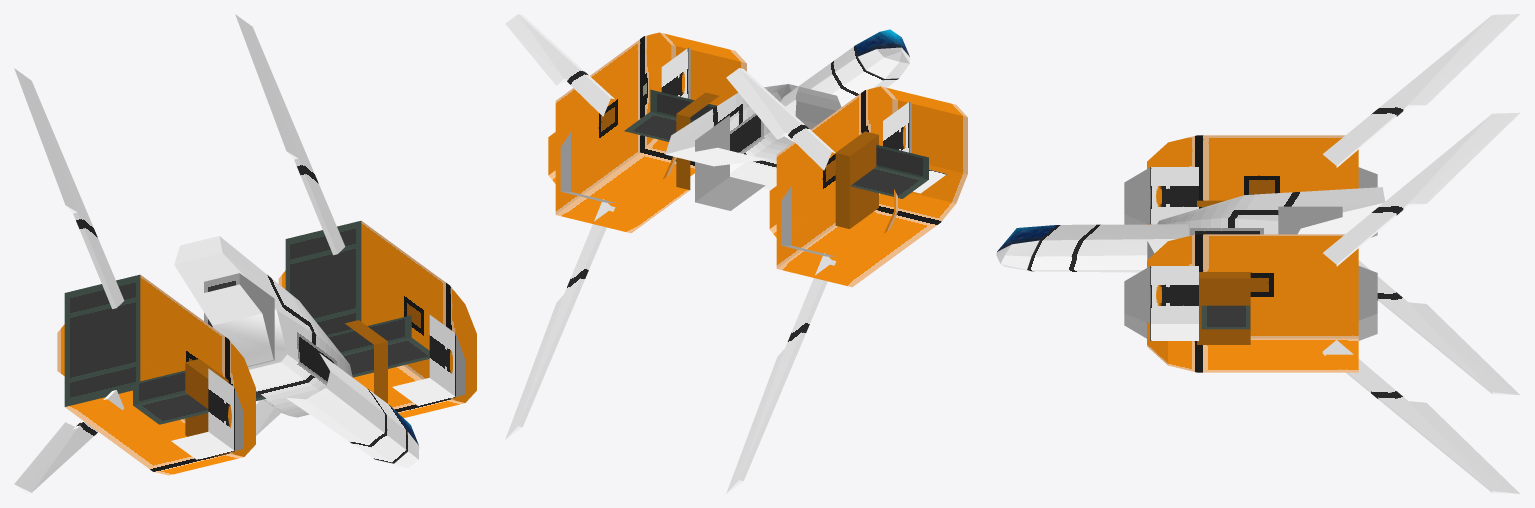
Rendered from ps2_save-icons_starsoldier.glb.
The picture shows the model from 3 angles, left to right: view 1: azimuth 30°, elevation 25°; view 2: azimuth 150°, elevation 25°; view 3: azimuth 270°, elevation 25°; orthographic projection. The views are drawn at different scales.
Parts seen in each view (by area): view 1: SS_ICON0.ICO; view 2: SS_ICON0.ICO; view 3: SS_ICON0.ICO.
Boxes of the visible parts, x1,y1,x2,y2 form: SS_ICON0.ICO: (14,14,476,493); SS_ICON0.ICO: (505,14,967,493); SS_ICON0.ICO: (996,14,1519,493).
Bounding box in the file's own units: 2.31 × 2.96 × 3.68.
1 material, 1 textured.
